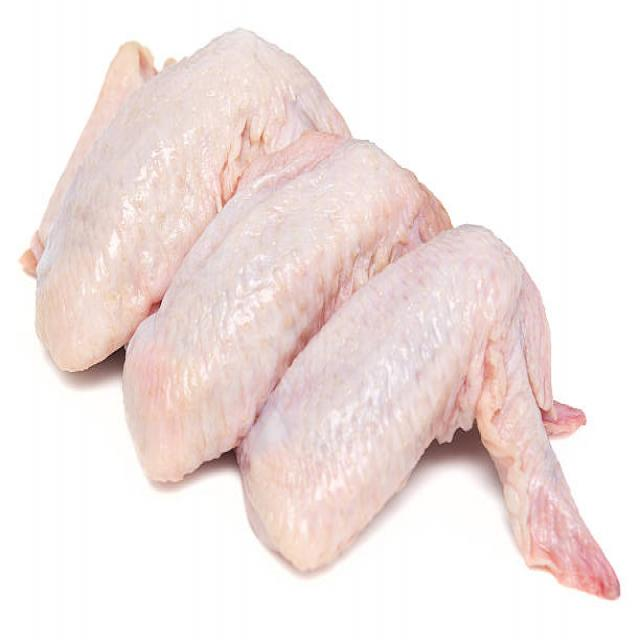Chicken: (263, 247, 615, 599)
